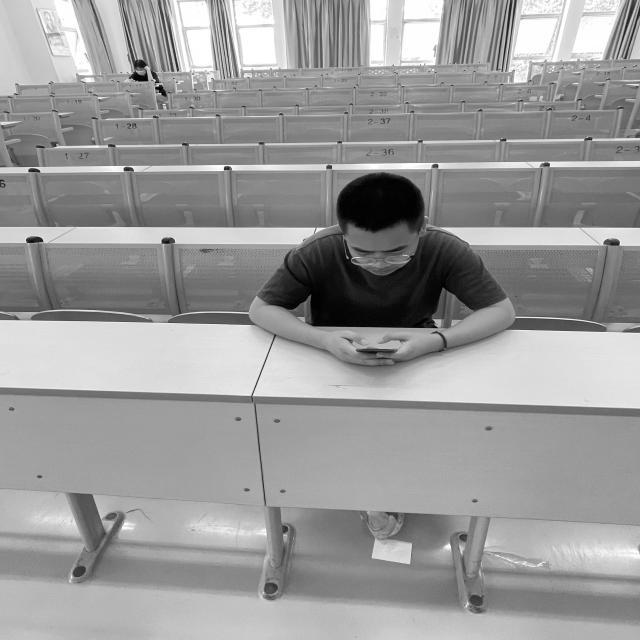phone: (246, 173, 517, 366)
